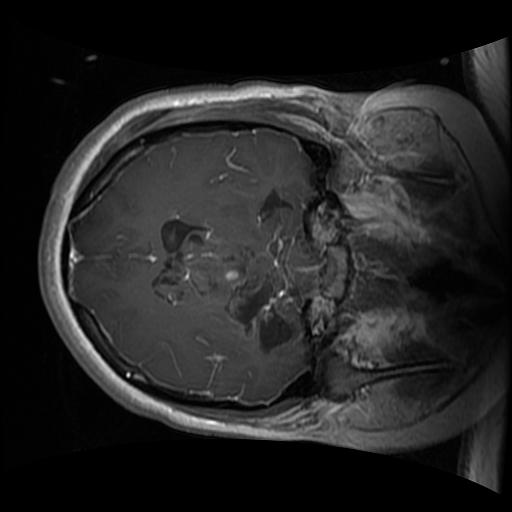glioma: (151, 186, 307, 356)
